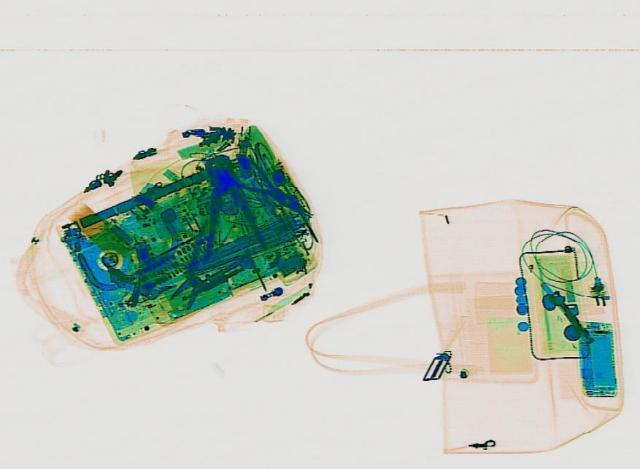Pliers: (182, 151, 268, 258), (152, 234, 252, 313), (218, 157, 314, 222)
